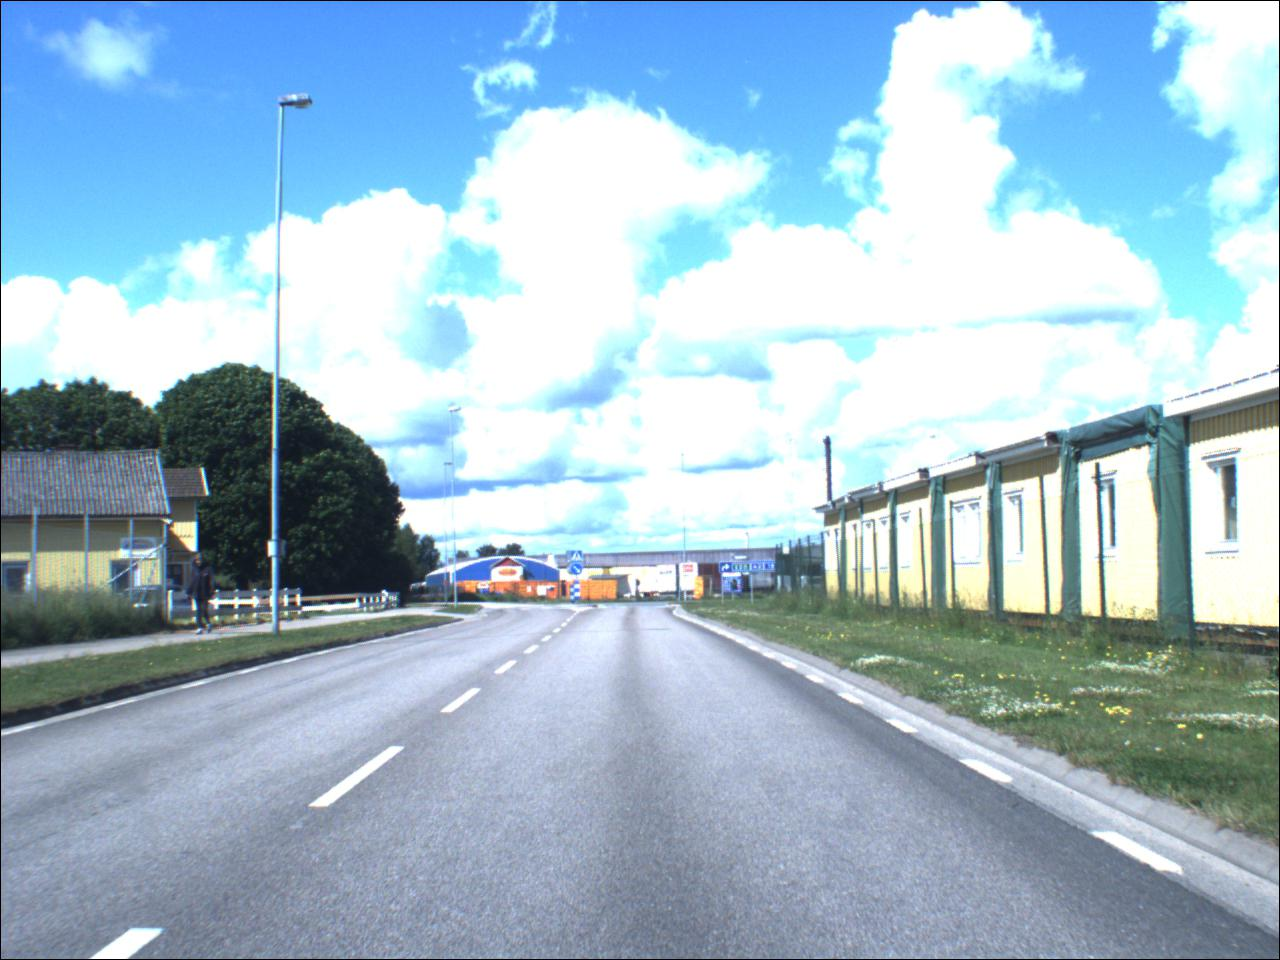PASS_RIGHT_SIDE: (573, 565, 586, 578)
PEDESTRIAN_CROSSING: (572, 551, 585, 564)
